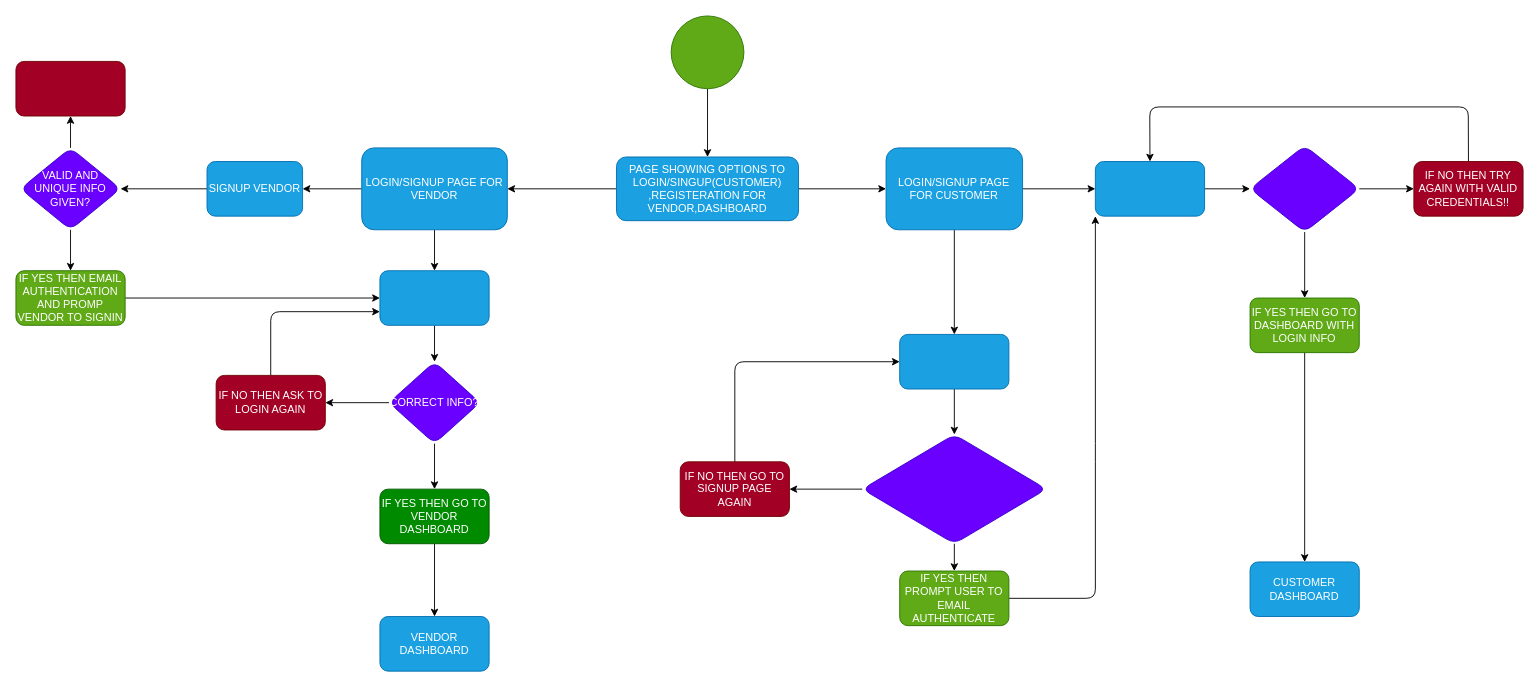
The diagram is 1540 pixels wide and 687 high, and some of its shapes have lost their labels. Here are the shapes that lost their labels. From the top down, the box of each, then its label:
(670, 15, 744, 89): START
(15, 61, 125, 116): IF NO THEN PROMP TO GIVE VALID INFO
(1094, 161, 1205, 216): LOGIN CUSTOMER
(1249, 145, 1359, 232): CORRECT LOGIN INFO?
(379, 270, 489, 325): LOGIN VENDOR
(899, 334, 1009, 389): SIGNUP
(861, 434, 1046, 544): VALID AND UNIQUE EMAIL ID AND PASSWORD?
